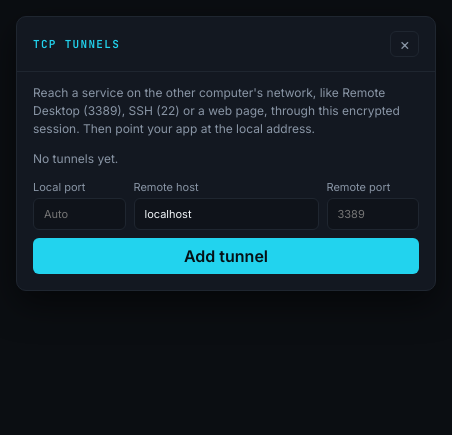
Test: TunnelPanel › explains bad input and backend errors instead of sending them
In the field labelled "Remote port": [373, 214] box left=326, top=198, right=419, bottom=230, type "70000"
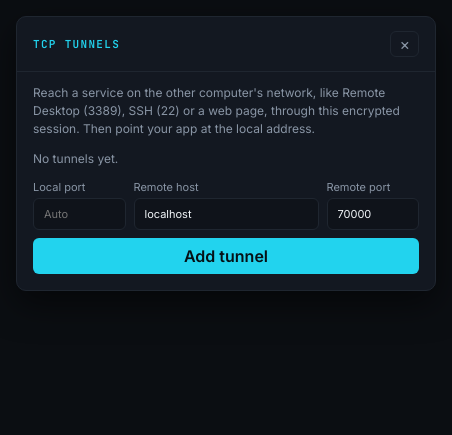
Click the button "Add tunnel": [226, 256] box left=33, top=238, right=419, bottom=274
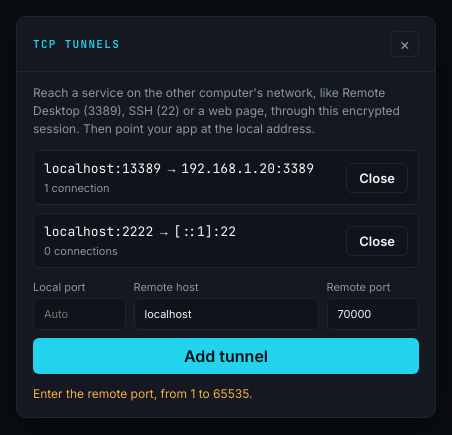
expect the message reads "Enter the remote port, from 1 to 65535.": met, box left=33, top=386, right=252, bottom=401
Replace the text in the field labelled "Remote port" with "3389": [373, 314] box left=326, top=298, right=419, bottom=330
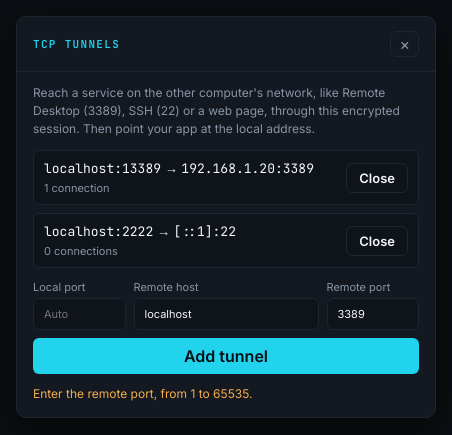
In the field labelled "Local port": [79, 314] box left=33, top=298, right=126, bottom=330, type "3389"
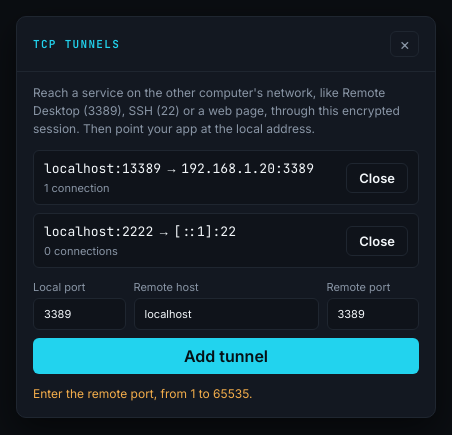
Click the button "Add tunnel": [226, 356] box left=33, top=338, right=419, bottom=374
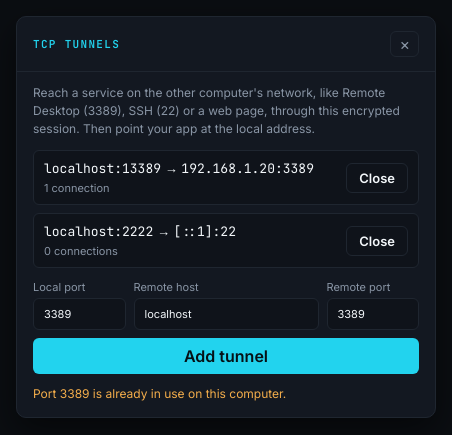
expect the message reads "Port 3389 is already in use on this computer.": met, box left=33, top=386, right=286, bottom=401
